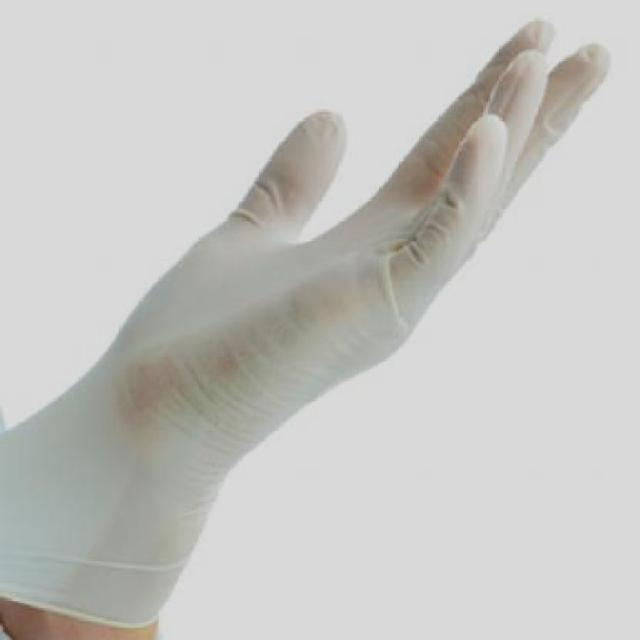glove: (2, 18, 620, 634)
